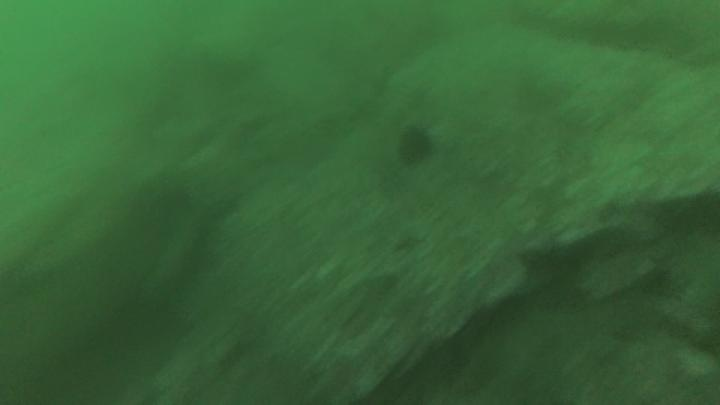echinus: (395, 123, 436, 167)
